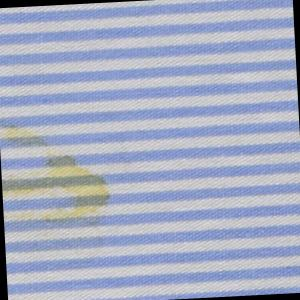Oil Stain: (1, 116, 122, 228)
